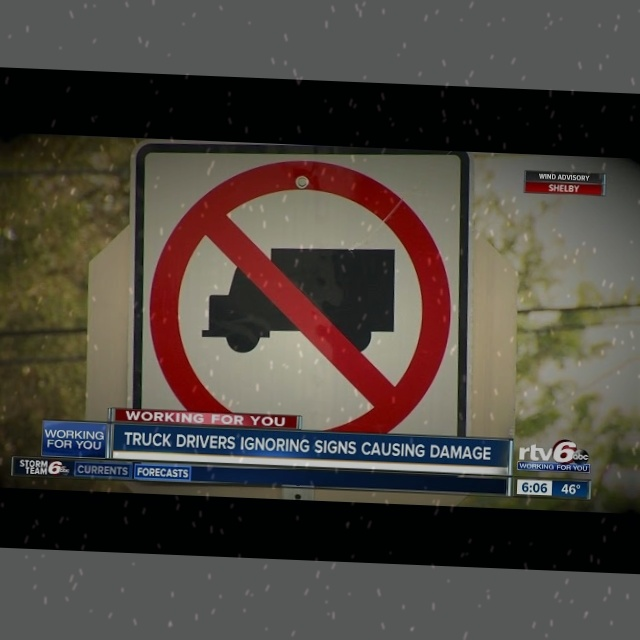Truck_Prohibited: (147, 160, 456, 422)
